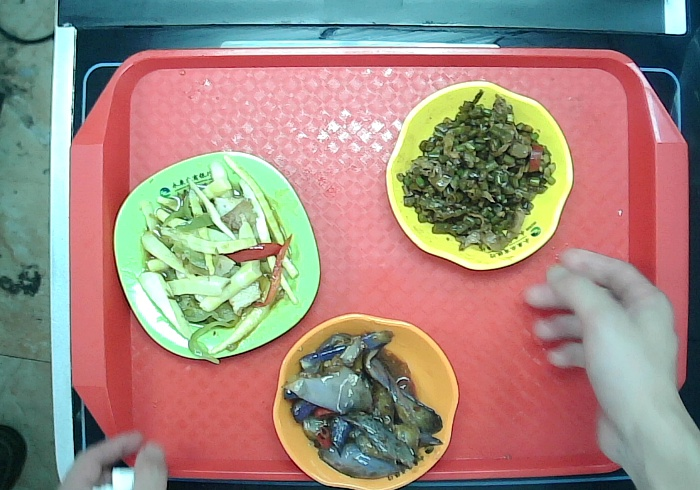YKMZ-Huang_Se_Ao_Bian_Wan: (384, 80, 576, 272)
YKMZ-Ju_Se_Ao_Bian_Wan: (270, 313, 462, 490)
YKMZ-Lv_Se_Fang_Die: (112, 150, 321, 362)
